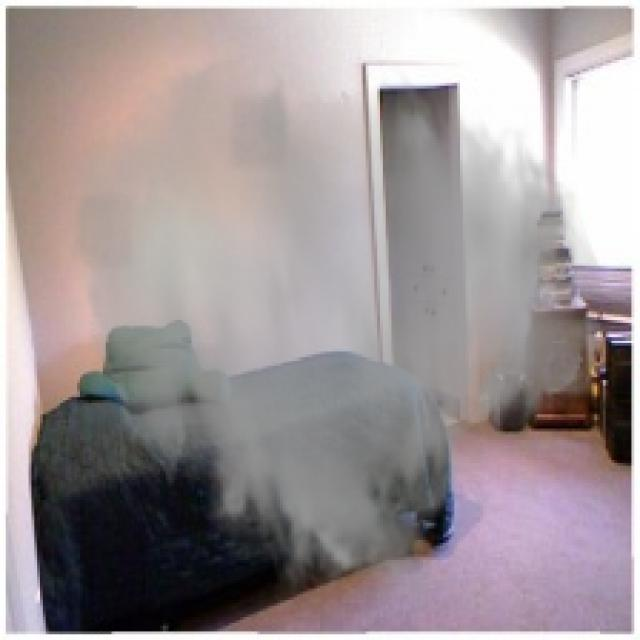smoke: (60, 54, 609, 612)
